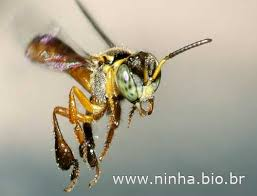jataí: (19, 1, 218, 196)
